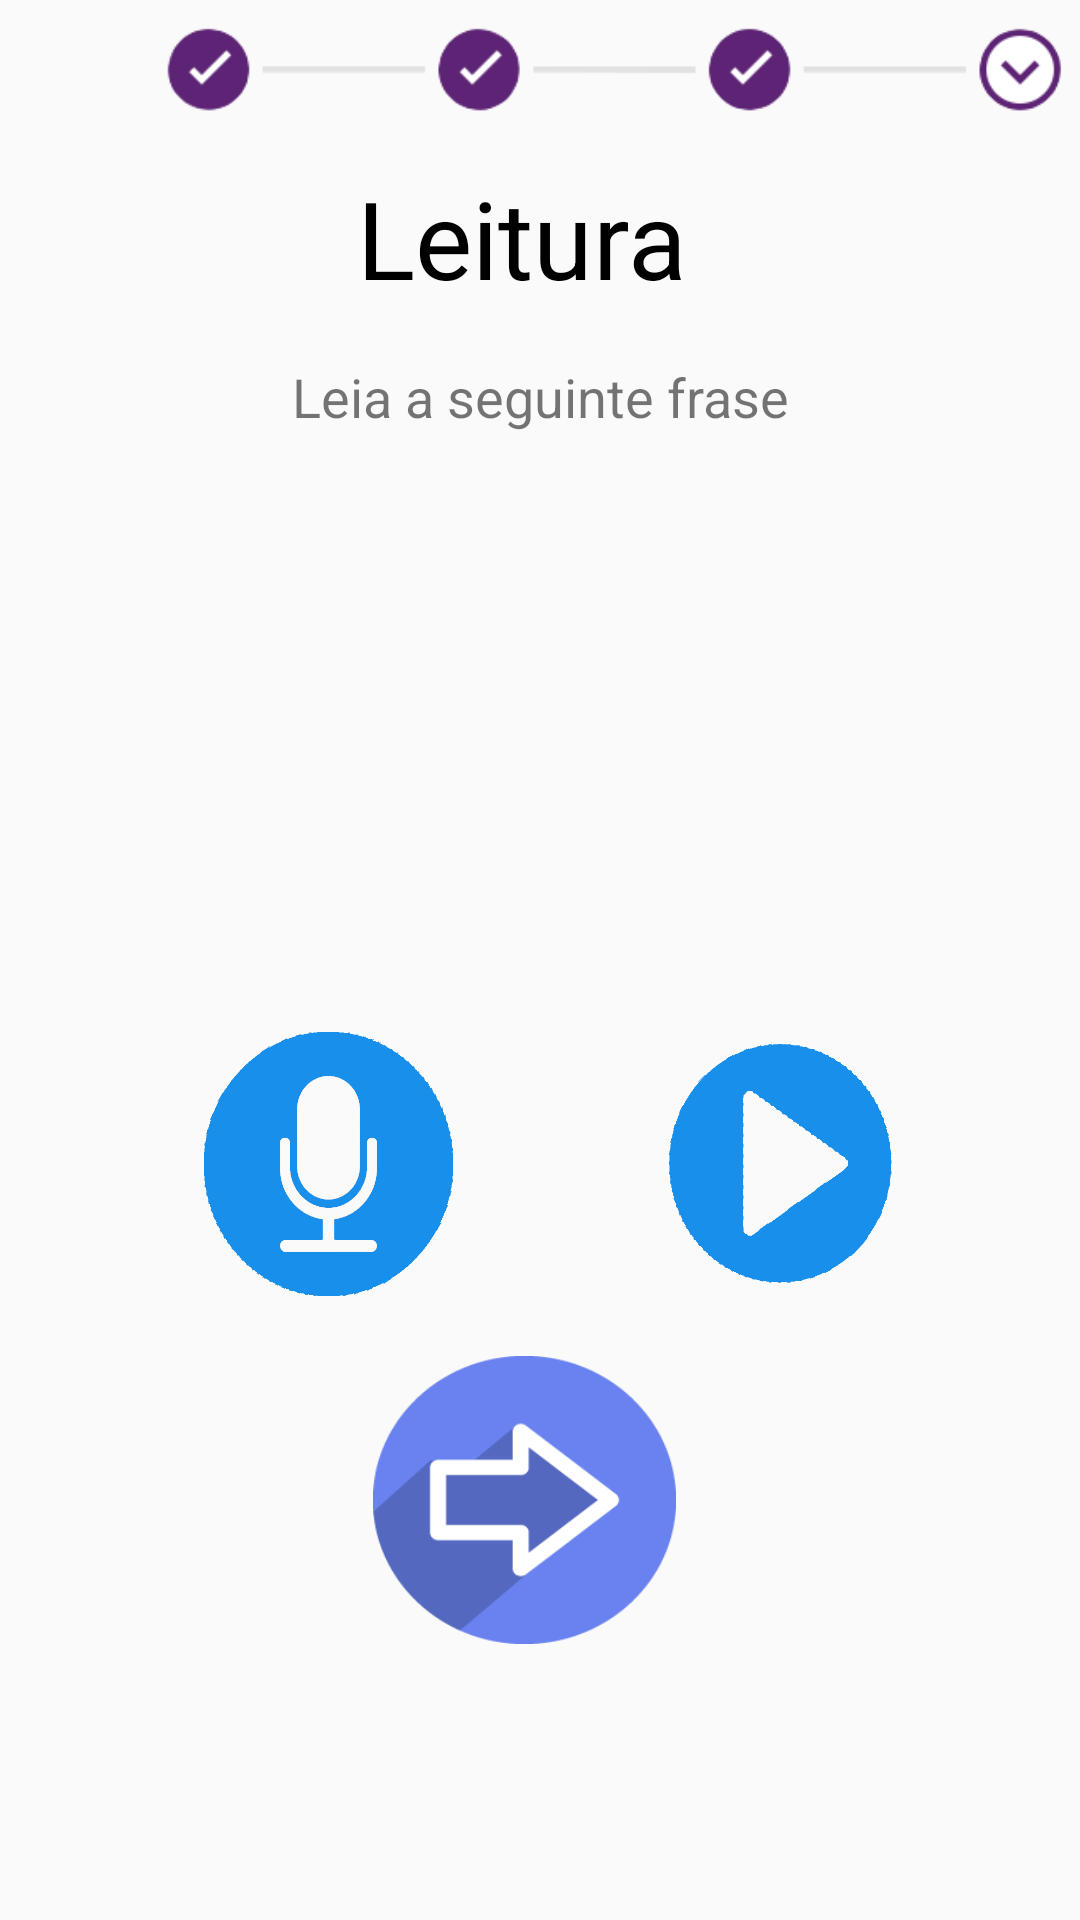

Named icons in this screenshot (1080x1920) and their bounding boxes, (x1, y1, x2, y2):
arrow: (373, 1356, 676, 1644)
play: (669, 1044, 892, 1283)
record: (204, 1032, 453, 1296)
